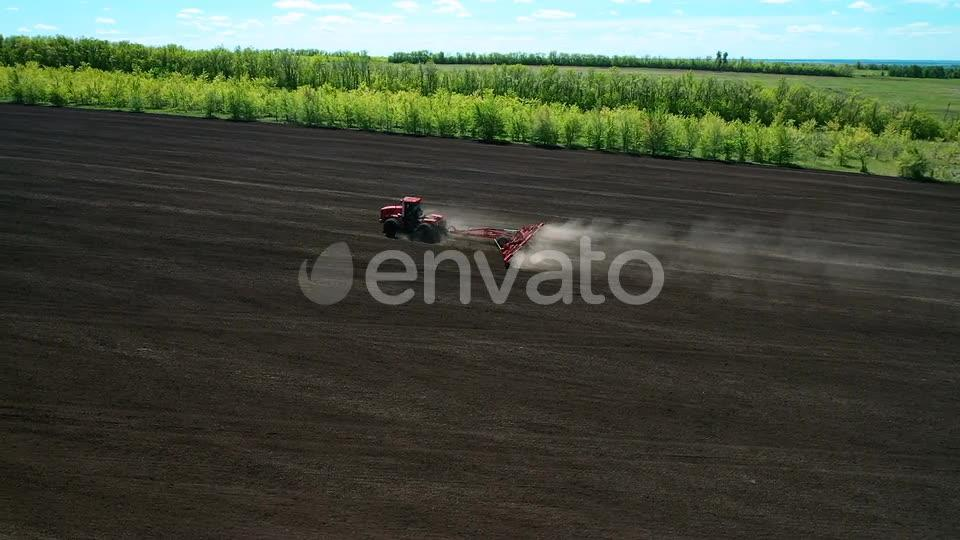tractor: (376, 195, 450, 245)
